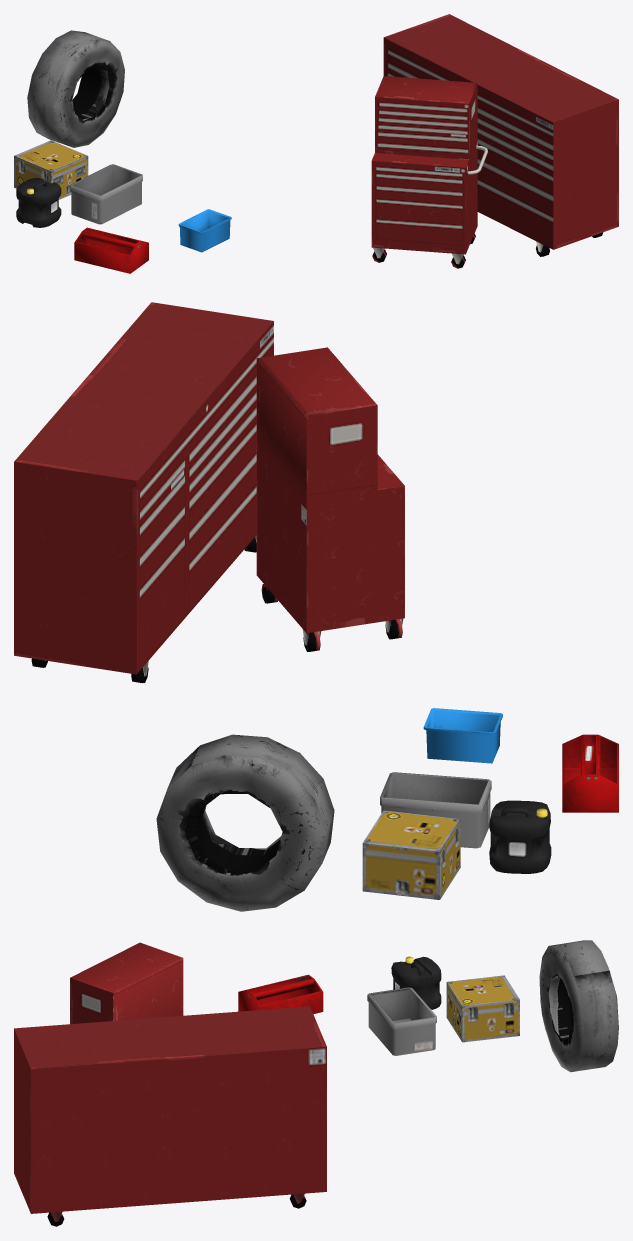
File: stuff.fbx
3 views of the same model, one above another, from view 1: azimuth 30°, elevation 25°; view 2: azimuth 150°, elevation 25°; view 3: azimuth 270°, elevation 25° (orthographic). The views are drawn at different scales.
Visible parts, largest first — view 1: Object001, Object002, Object007, Object005, DP_RST_Toolbox_2, Object004, Object006, Object003; view 2: Object001, Object002, Object007, DP_RST_Toolbox_2, Object005, Object004, Object006, Object003; view 3: Object001, Object007, Object002, DP_RST_Toolbox_2, Object005, Object004, Object006.
Part boxes in pixels (<box>): Object001: <box>383,14,618,256</box>; Object002: <box>371,76,487,268</box>; Object007: <box>27,30,124,147</box>; Object005: <box>70,164,142,224</box>; DP_RST_Toolbox_2: <box>14,140,88,199</box>; Object004: <box>74,227,148,273</box>; Object006: <box>16,178,61,227</box>; Object003: <box>178,209,231,252</box>; Object001: <box>14,302,273,683</box>; Object002: <box>256,347,404,651</box>; Object007: <box>156,734,334,911</box>; DP_RST_Toolbox_2: <box>362,810,460,899</box>; Object005: <box>380,772,491,848</box>; Object004: <box>562,734,618,812</box>; Object006: <box>489,800,551,873</box>; Object003: <box>423,708,502,763</box>; Object001: <box>14,1006,326,1226</box>; Object007: <box>539,940,618,1072</box>; Object002: <box>70,942,183,1024</box>; DP_RST_Toolbox_2: <box>446,975,519,1042</box>; Object005: <box>367,987,436,1055</box>; Object004: <box>238,974,323,1014</box>; Object006: <box>391,956,441,1009</box>.
Size of the model in its own units: 138 by 49.38 by 148.
Materials: 1 (1 with a texture image).
